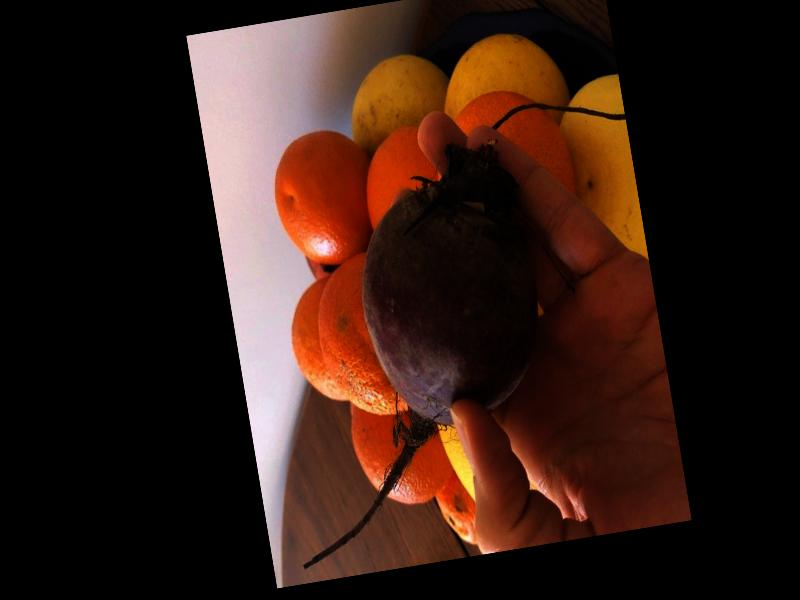Beet: (240, 140, 574, 568)
